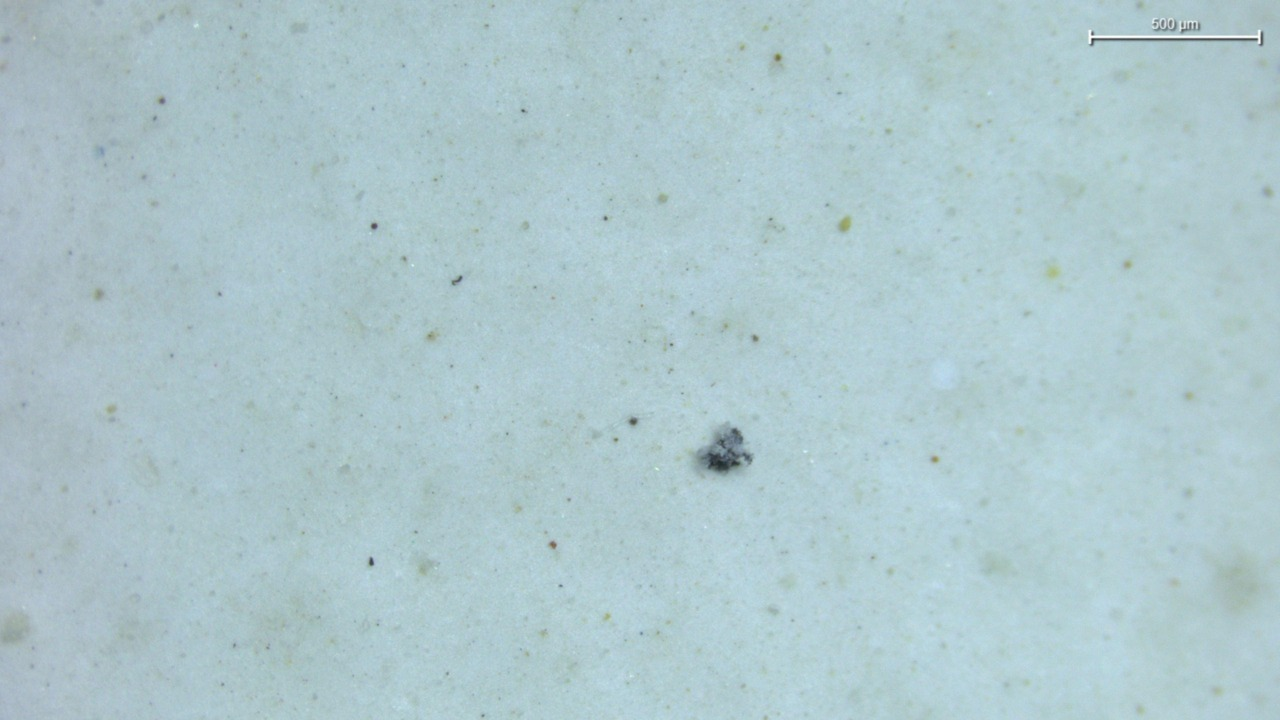microplastic_fragment: (698, 424, 753, 471)
